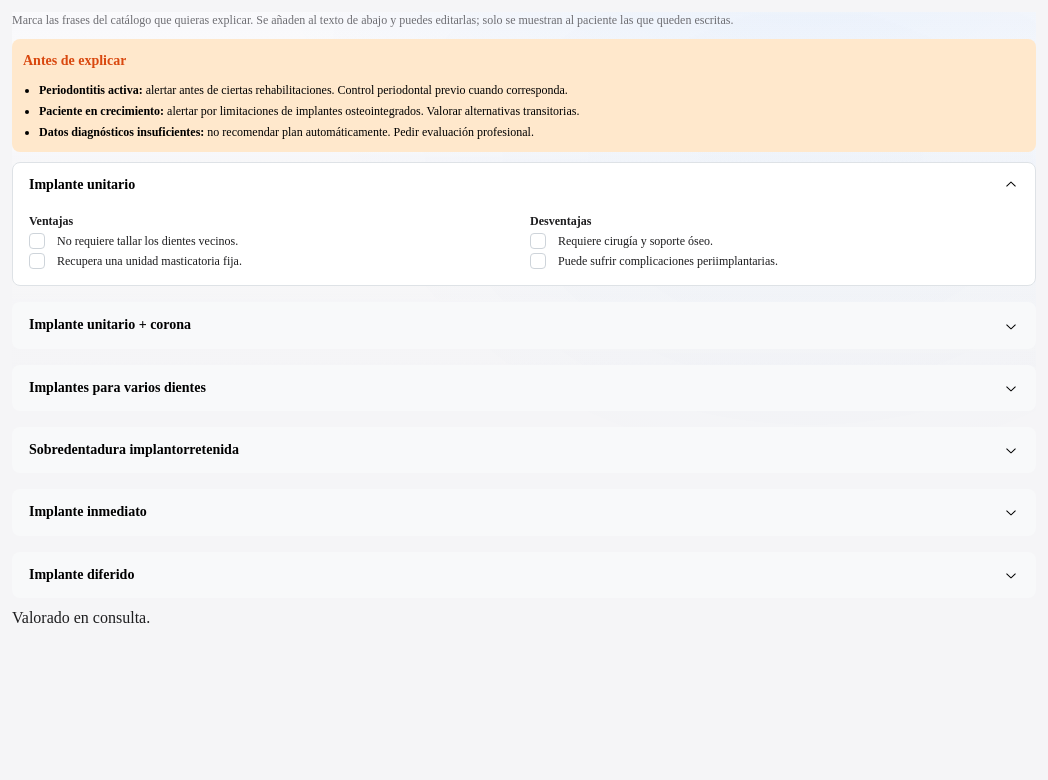
Test: TradeoffPhrasePicker › keeps pros and cons apart
The width and height of the screenshot is (1048, 780).
Click the checkbox labelled "Requiere cirugía y soporte óseo." at (538,241), box [530,233,546,249]
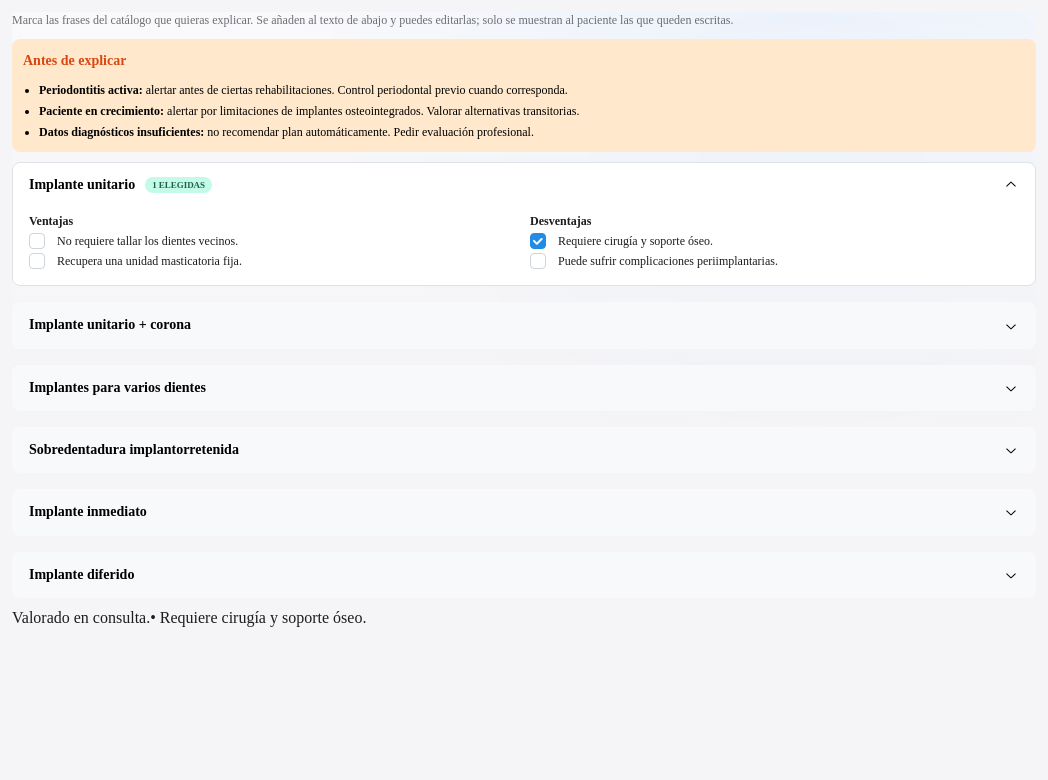
Expected: the text named "Ventajas escritas" reads "Valorado en consulta.", [12,609,150,626]
Result: the text named "Desventajas escritas" reads "• Requiere cirugía y soporte óseo." at [150,609,366,626]
Result: the text "1 elegidas" is shown at [152,178,205,192]
